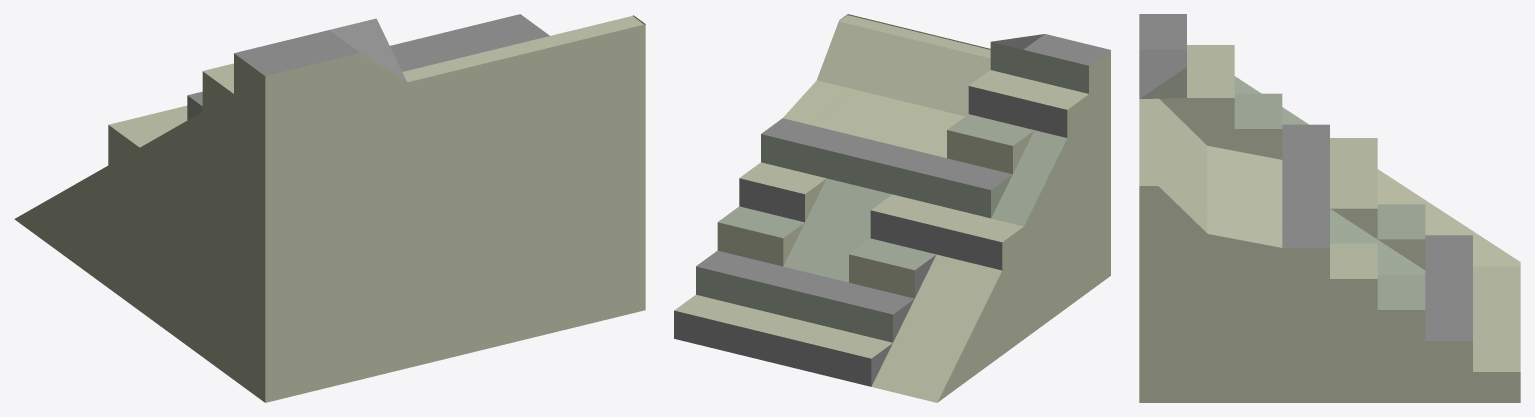
Rendered from Escalier 3 fixed.fbx.
The picture shows the model from 3 angles, left to right: view 1: azimuth 30°, elevation 25°; view 2: azimuth 150°, elevation 25°; view 3: azimuth 270°, elevation 25°; orthographic projection. The views are drawn at different scales.
Visible parts, largest first — view 1: Stairs V0.3.2; view 2: Stairs V0.3.2; view 3: Stairs V0.3.2.
Part boxes in pixels (x1=…): Stairs V0.3.2: x1=14, y1=14, x2=645, y2=402; Stairs V0.3.2: x1=674, y1=14, x2=1110, y2=402; Stairs V0.3.2: x1=1139, y1=14, x2=1520, y2=402.
Size of the model in its own units: 142 by 117 by 163.
